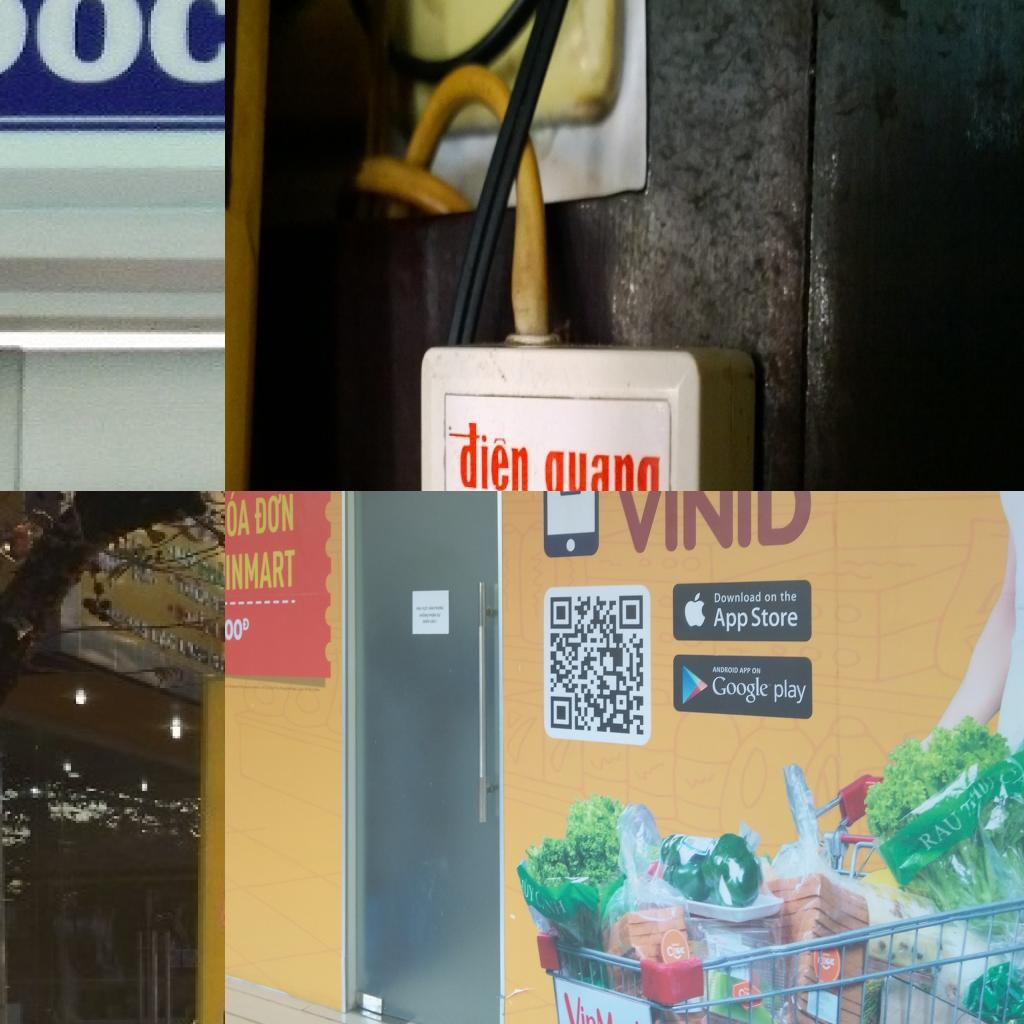text: (0, 0, 225, 91), (612, 491, 812, 555), (442, 412, 534, 491), (225, 549, 295, 592), (558, 991, 646, 1024), (914, 806, 966, 858), (252, 491, 293, 534), (711, 676, 769, 706), (225, 491, 250, 538), (750, 604, 800, 627), (712, 606, 748, 632), (772, 678, 807, 704), (712, 589, 762, 604), (225, 619, 242, 641), (711, 663, 739, 676), (523, 876, 535, 905), (666, 944, 686, 958), (553, 898, 567, 918), (779, 588, 798, 602), (764, 590, 778, 604), (242, 617, 250, 632), (739, 666, 751, 674), (752, 666, 762, 674), (434, 605, 444, 611), (419, 612, 429, 618), (737, 989, 744, 997), (821, 952, 831, 957), (429, 612, 437, 618), (422, 618, 430, 623), (416, 605, 422, 611), (422, 605, 428, 611), (428, 604, 434, 610), (430, 619, 436, 624), (437, 613, 441, 618)
